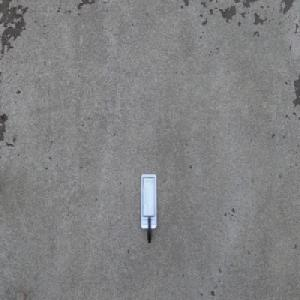LuggageTag: (140, 172, 157, 244)
